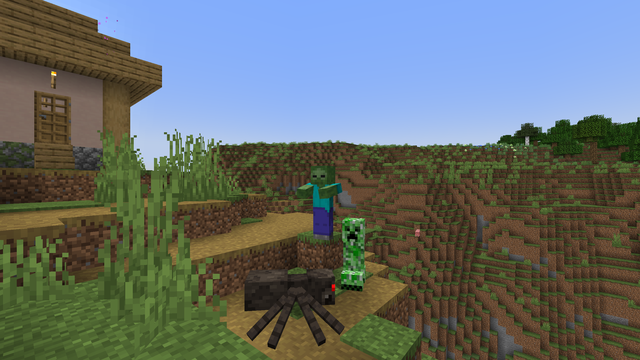araignees: (244, 254, 347, 350)
cochons: (414, 230, 421, 236)
creepers: (337, 214, 370, 291)
zombies: (307, 167, 337, 242)
